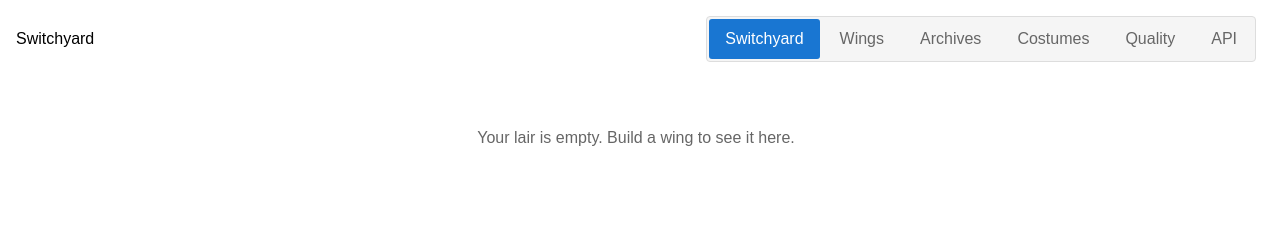
LairOverview › switches to API view when API tab clicked
This screenshot has width=1273, height=249.
Click the button "API". click: (1224, 39)
box: [1195, 19, 1253, 59]
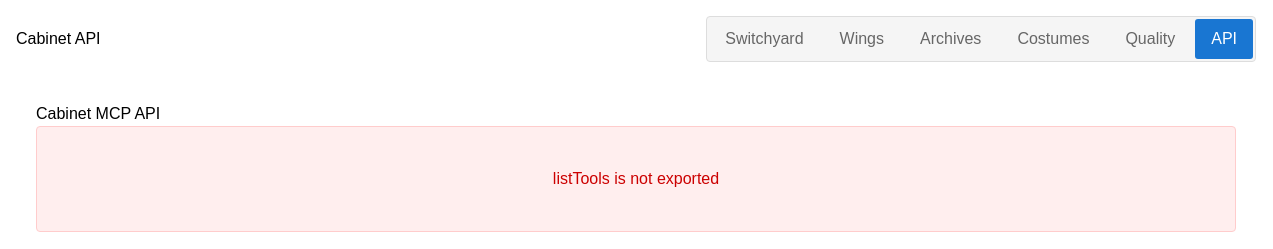
Result: the text "Cabinet MCP API" is shown at [36, 105, 160, 122]
